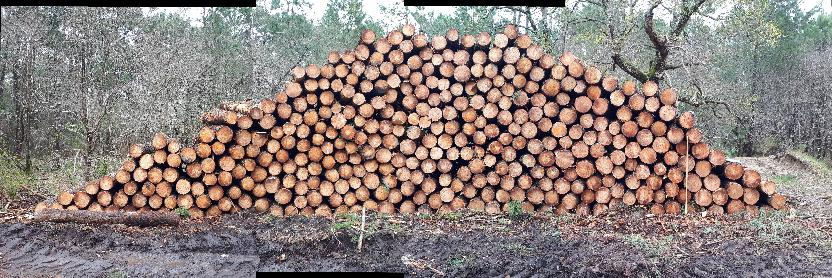etalon: (680, 136, 684, 213)
object: (685, 134, 689, 213), (574, 95, 592, 112), (742, 169, 760, 186), (502, 45, 520, 62), (571, 140, 587, 158), (692, 141, 710, 157), (555, 150, 573, 166), (724, 162, 742, 178), (525, 187, 543, 203), (694, 189, 712, 205), (543, 79, 559, 96), (679, 111, 695, 128), (678, 154, 694, 171), (596, 156, 612, 173), (676, 173, 692, 190), (636, 185, 652, 202), (595, 185, 611, 202), (585, 66, 601, 83), (452, 65, 470, 80), (285, 81, 301, 97), (660, 87, 676, 103), (592, 97, 608, 113), (560, 107, 576, 123), (621, 120, 637, 136), (198, 125, 214, 141), (216, 126, 232, 142), (636, 128, 652, 144), (653, 136, 669, 152), (538, 150, 554, 166), (274, 187, 290, 203), (712, 188, 728, 204), (538, 53, 554, 69), (628, 94, 644, 109), (260, 98, 276, 113), (482, 103, 498, 118), (512, 108, 528, 123), (637, 111, 652, 127), (521, 122, 537, 137), (500, 145, 516, 160), (640, 146, 656, 161), (696, 160, 712, 175), (186, 161, 202, 176), (646, 172, 662, 187), (704, 173, 720, 188), (155, 180, 171, 195), (726, 182, 742, 197), (509, 185, 524, 201), (743, 187, 759, 202), (129, 192, 145, 207), (526, 43, 542, 58), (727, 199, 745, 212), (641, 81, 656, 96), (208, 184, 223, 199), (544, 189, 559, 204), (560, 75, 576, 89), (543, 102, 559, 116), (460, 106, 476, 120), (668, 128, 684, 142), (687, 128, 703, 142), (237, 128, 251, 144), (582, 129, 598, 143), (422, 133, 438, 147), (382, 133, 398, 147), (400, 139, 416, 153), (527, 139, 543, 153), (624, 142, 640, 156), (196, 141, 210, 157), (708, 149, 724, 163), (390, 152, 406, 166), (166, 152, 182, 166), (468, 159, 484, 173), (218, 169, 232, 185), (420, 178, 436, 192), (400, 179, 414, 195), (75, 189, 89, 205), (307, 189, 321, 205), (769, 193, 785, 207), (376, 37, 390, 53), (406, 55, 422, 69), (587, 84, 601, 99), (610, 90, 624, 105), (403, 94, 417, 109), (470, 94, 485, 108), (645, 96, 659, 111), (442, 104, 457, 118), (529, 106, 543, 121), (303, 109, 317, 124), (498, 110, 512, 125), (444, 119, 459, 133), (652, 120, 666, 135), (552, 121, 566, 136), (438, 134, 453, 148), (218, 155, 233, 169), (668, 166, 682, 181), (364, 173, 378, 188), (676, 188, 691, 202), (113, 189, 127, 204), (430, 34, 444, 49), (488, 46, 502, 61), (365, 64, 379, 79), (530, 92, 546, 105), (382, 173, 398, 186), (438, 62, 454, 75), (466, 198, 484, 209), (603, 76, 617, 90), (478, 77, 492, 91), (384, 87, 398, 101), (371, 94, 385, 108), (454, 95, 468, 109), (293, 97, 307, 111), (660, 105, 674, 119), (617, 106, 631, 120), (428, 106, 442, 120), (237, 113, 251, 127), (594, 115, 608, 129), (340, 124, 354, 138), (406, 124, 420, 138), (597, 130, 611, 144), (613, 133, 627, 147), (266, 138, 280, 152), (590, 142, 604, 156), (308, 147, 322, 161), (375, 147, 389, 161), (610, 149, 624, 163), (508, 162, 522, 176), (252, 165, 266, 179), (457, 165, 471, 179), (626, 174, 640, 188), (264, 178, 278, 192), (175, 178, 189, 192), (554, 179, 568, 193), (374, 185, 388, 199), (440, 186, 454, 200), (177, 194, 191, 208), (562, 194, 576, 208), (504, 24, 518, 38), (388, 30, 402, 44), (494, 33, 508, 47), (354, 45, 368, 59), (409, 70, 423, 84), (512, 72, 526, 86), (483, 124, 498, 137), (453, 50, 468, 63), (568, 63, 583, 76), (358, 104, 374, 116), (332, 112, 344, 128), (576, 164, 592, 176), (149, 166, 161, 182), (115, 170, 131, 182), (525, 80, 539, 93), (622, 81, 636, 94), (449, 82, 463, 95), (414, 85, 428, 98), (512, 91, 526, 104), (537, 117, 551, 130), (181, 146, 195, 159), (664, 150, 678, 163), (258, 152, 272, 165), (421, 158, 434, 172), (307, 161, 321, 174), (396, 166, 410, 179), (163, 166, 177, 179), (586, 175, 600, 188), (334, 179, 348, 192), (140, 181, 154, 194), (664, 181, 678, 194), (463, 183, 476, 197), (496, 188, 510, 201), (480, 188, 494, 201), (59, 190, 73, 203), (196, 193, 210, 206), (148, 194, 162, 207), (400, 199, 414, 212), (388, 50, 402, 63), (516, 59, 530, 72), (351, 61, 365, 74), (469, 63, 483, 76), (483, 63, 497, 76), (335, 63, 349, 76), (306, 64, 320, 77), (321, 64, 335, 77), (278, 102, 290, 117), (97, 189, 109, 204), (429, 192, 441, 207), (362, 28, 374, 43), (414, 32, 426, 47), (502, 63, 514, 78), (254, 198, 270, 209), (664, 200, 680, 211), (486, 171, 499, 184), (445, 28, 458, 41), (438, 76, 450, 90), (375, 78, 387, 92), (400, 80, 412, 94), (466, 80, 478, 94), (341, 84, 355, 96), (342, 103, 354, 117), (225, 109, 237, 123), (260, 114, 274, 126), (364, 119, 378, 131), (380, 119, 392, 133), (297, 123, 309, 137), (570, 124, 582, 138), (498, 131, 512, 143), (455, 132, 467, 146), (368, 133, 382, 145), (153, 134, 165, 148), (282, 134, 294, 148), (512, 136, 526, 148), (542, 136, 556, 148), (297, 138, 311, 150), (489, 140, 501, 154), (247, 143, 259, 157), (230, 145, 244, 157), (430, 146, 444, 158), (154, 148, 166, 162), (334, 149, 348, 161), (437, 158, 451, 170), (202, 157, 214, 171), (364, 159, 378, 171), (282, 159, 296, 171), (352, 164, 366, 176), (340, 163, 352, 177), (473, 173, 485, 187), (501, 174, 513, 188), (84, 181, 98, 193), (320, 181, 332, 195), (252, 184, 266, 196), (610, 183, 622, 197), (330, 192, 342, 206), (518, 34, 530, 48), (342, 50, 354, 64), (472, 51, 486, 63), (327, 51, 341, 63), (387, 73, 399, 87), (378, 162, 394, 172), (488, 88, 500, 101), (557, 92, 569, 105), (498, 96, 510, 109), (417, 101, 429, 114), (394, 110, 406, 123), (580, 114, 592, 127), (431, 120, 443, 133), (463, 122, 476, 134), (676, 139, 688, 152), (212, 140, 224, 153), (322, 153, 334, 166), (232, 165, 245, 177), (636, 164, 648, 177), (564, 166, 576, 179), (134, 167, 146, 180), (410, 170, 422, 183), (100, 174, 112, 187), (307, 175, 319, 188), (242, 176, 254, 189), (540, 177, 552, 190), (295, 179, 307, 192), (762, 179, 774, 192), (357, 186, 369, 199), (582, 188, 594, 201), (218, 196, 230, 209), (380, 198, 392, 211), (478, 31, 490, 44), (460, 35, 473, 47), (420, 47, 432, 60), (380, 61, 392, 74), (574, 78, 585, 92), (414, 190, 425, 204), (450, 198, 464, 209), (593, 203, 607, 214), (551, 66, 565, 77), (530, 67, 544, 78), (330, 78, 342, 90), (359, 79, 371, 91), (501, 82, 513, 94), (321, 90, 333, 102), (382, 104, 394, 116), (318, 105, 330, 117), (250, 106, 262, 118), (290, 111, 302, 123), (608, 121, 620, 133), (508, 122, 520, 134), (354, 130, 366, 142), (473, 131, 485, 143), (252, 133, 264, 145), (362, 145, 374, 157), (416, 146, 428, 158), (275, 149, 287, 161), (295, 152, 307, 164), (140, 154, 152, 166), (268, 161, 280, 173), (654, 163, 666, 175), (612, 165, 624, 177), (326, 168, 338, 180), (439, 173, 451, 185), (283, 174, 295, 186), (518, 176, 530, 188), (450, 179, 462, 191), (191, 182, 203, 194), (124, 182, 136, 194), (344, 191, 356, 203), (239, 195, 251, 207), (315, 204, 331, 213), (400, 40, 412, 52), (370, 52, 382, 64), (560, 53, 572, 65), (426, 75, 438, 87), (429, 92, 440, 105), (421, 62, 434, 73), (304, 78, 318, 88), (558, 137, 572, 147), (461, 145, 471, 159), (203, 173, 217, 183), (600, 175, 614, 185), (390, 188, 400, 202), (622, 193, 636, 203), (440, 90, 452, 101), (275, 92, 287, 103), (352, 92, 364, 103), (418, 116, 430, 127), (282, 122, 294, 133), (344, 140, 356, 151), (321, 141, 333, 152), (128, 144, 140, 155), (446, 146, 457, 158), (483, 153, 495, 164), (123, 158, 135, 169), (533, 166, 544, 178), (294, 195, 306, 206), (687, 200, 699, 211), (402, 24, 414, 35), (396, 64, 408, 75), (292, 66, 304, 77), (346, 73, 358, 84), (524, 153, 534, 166), (297, 165, 307, 178), (654, 188, 664, 201), (363, 198, 377, 207), (744, 204, 758, 213), (206, 205, 220, 214), (188, 206, 202, 215), (408, 113, 419, 124), (474, 117, 485, 128), (330, 101, 342, 111), (270, 126, 282, 136), (326, 125, 336, 137), (312, 133, 324, 143), (168, 140, 178, 152), (407, 156, 417, 168), (626, 157, 636, 169), (244, 158, 254, 170), (496, 163, 508, 173), (546, 167, 558, 177), (572, 181, 582, 193), (164, 197, 176, 207), (442, 48, 452, 60), (493, 74, 503, 86), (394, 124, 404, 135), (350, 152, 360, 163), (350, 175, 360, 186), (230, 186, 240, 197), (432, 53, 442, 64), (576, 203, 588, 212), (651, 203, 663, 212), (336, 204, 348, 213), (319, 77, 329, 87), (306, 93, 316, 103), (315, 121, 325, 131), (334, 138, 344, 148), (474, 146, 484, 156), (520, 202, 534, 209), (88, 202, 102, 209), (555, 204, 569, 211), (709, 204, 723, 211), (284, 205, 298, 212), (268, 206, 282, 213), (300, 207, 314, 214), (610, 198, 622, 206), (354, 116, 364, 125), (35, 202, 47, 209), (486, 202, 498, 209), (418, 204, 429, 211), (760, 206, 771, 213), (50, 202, 62, 208), (350, 204, 360, 211), (439, 205, 449, 210), (104, 205, 118, 208), (232, 204, 238, 211), (66, 205, 78, 208), (540, 205, 550, 208)
pile: (23, 20, 789, 216)
